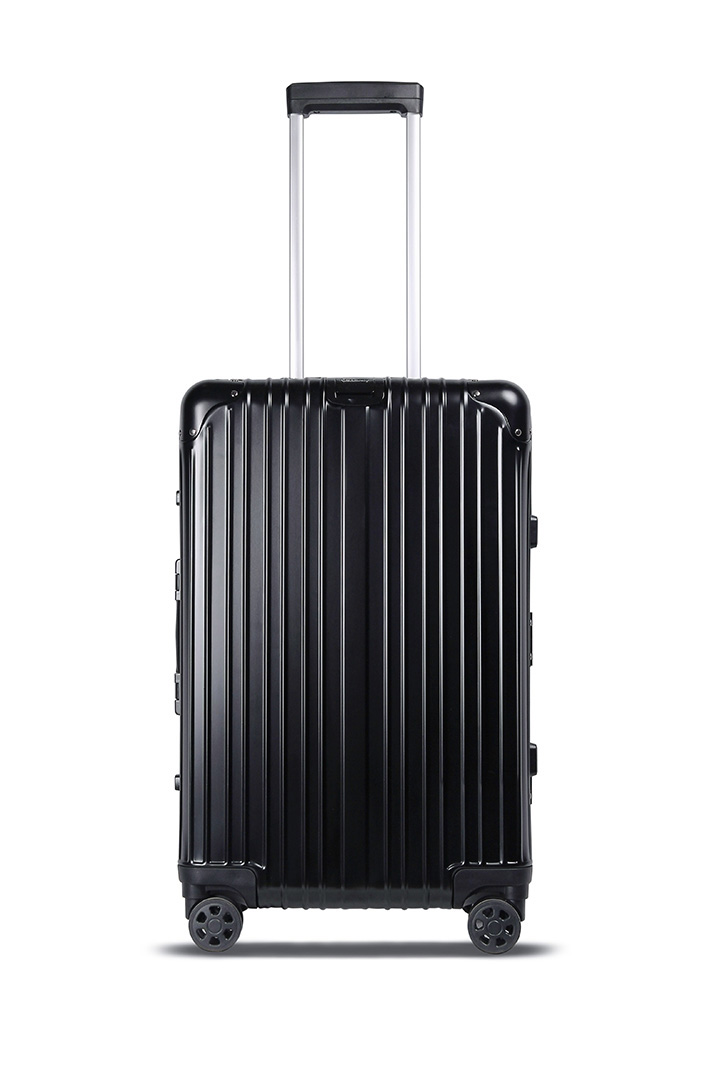luggage: (174, 78, 541, 955)
